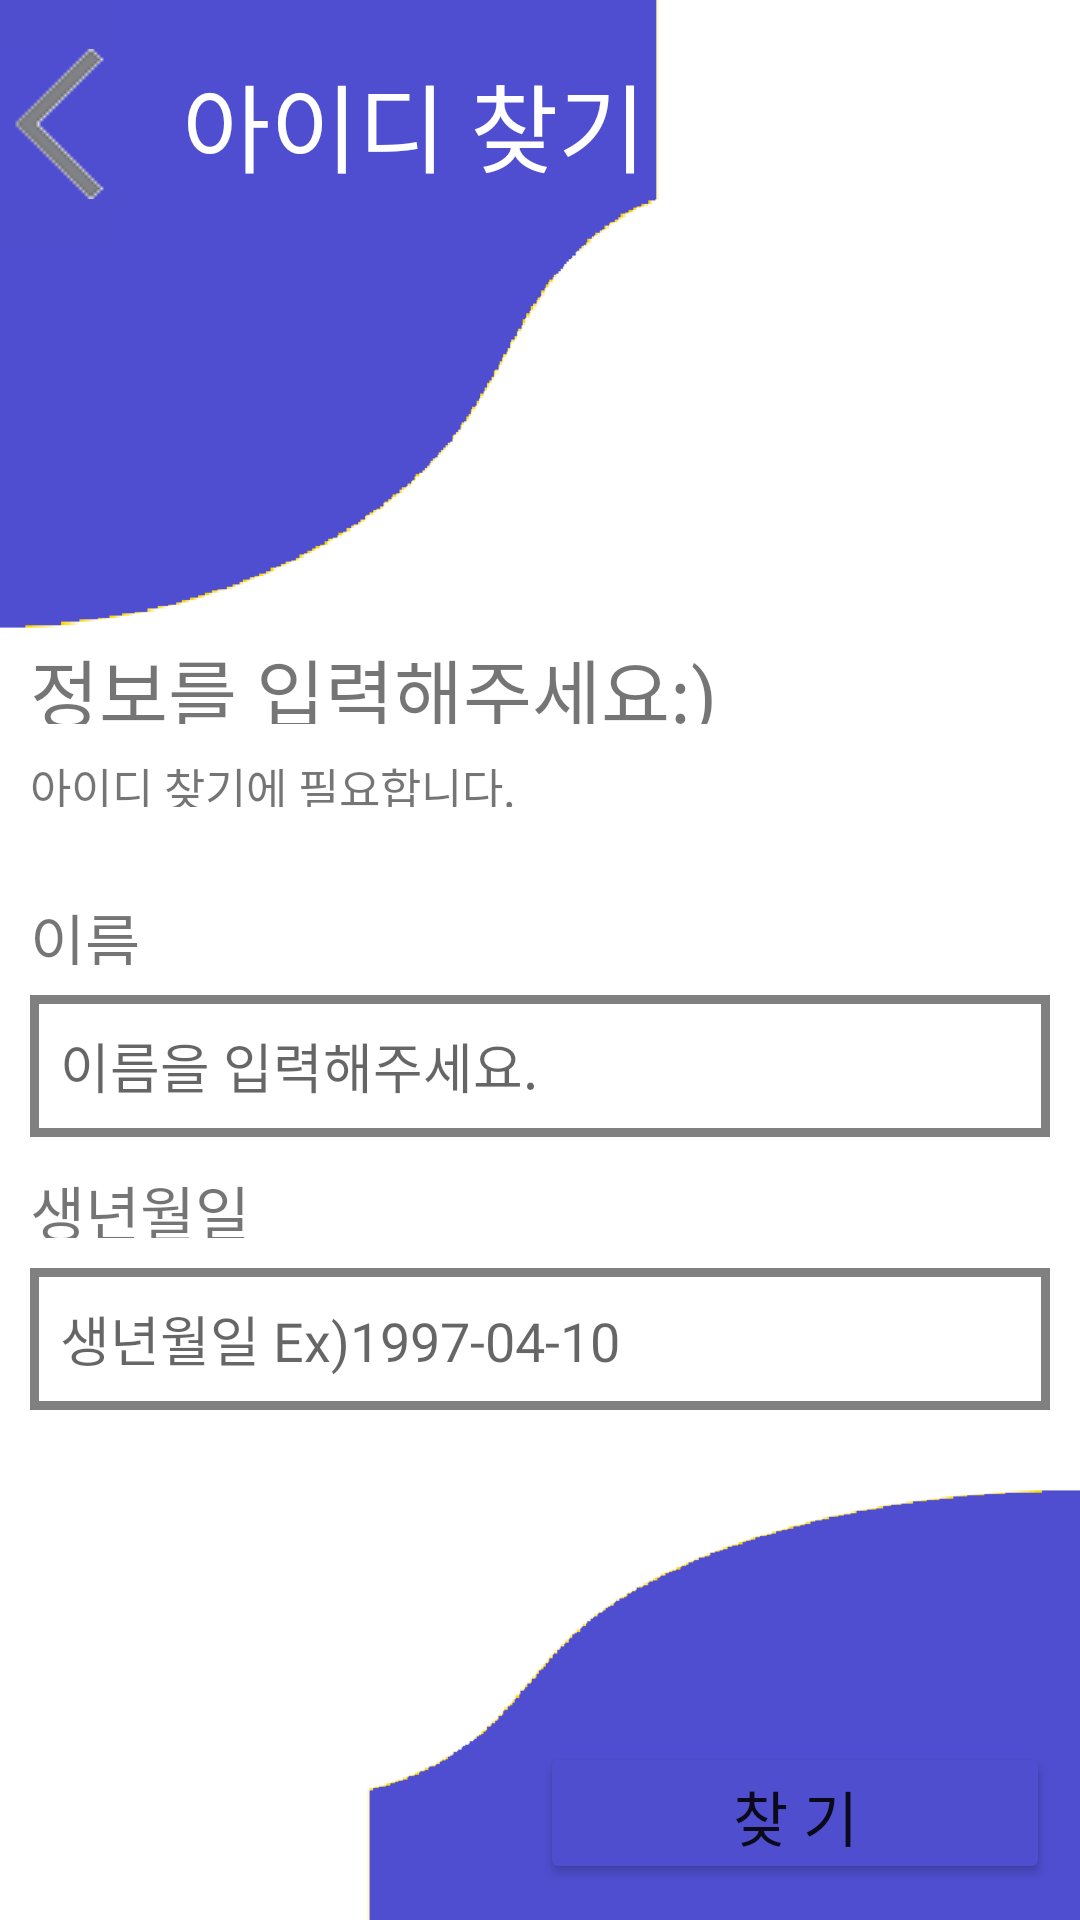

Where to tap for icons on this 1080 x 1920 app screen, as point (x, y):
back space: point (59, 124)
